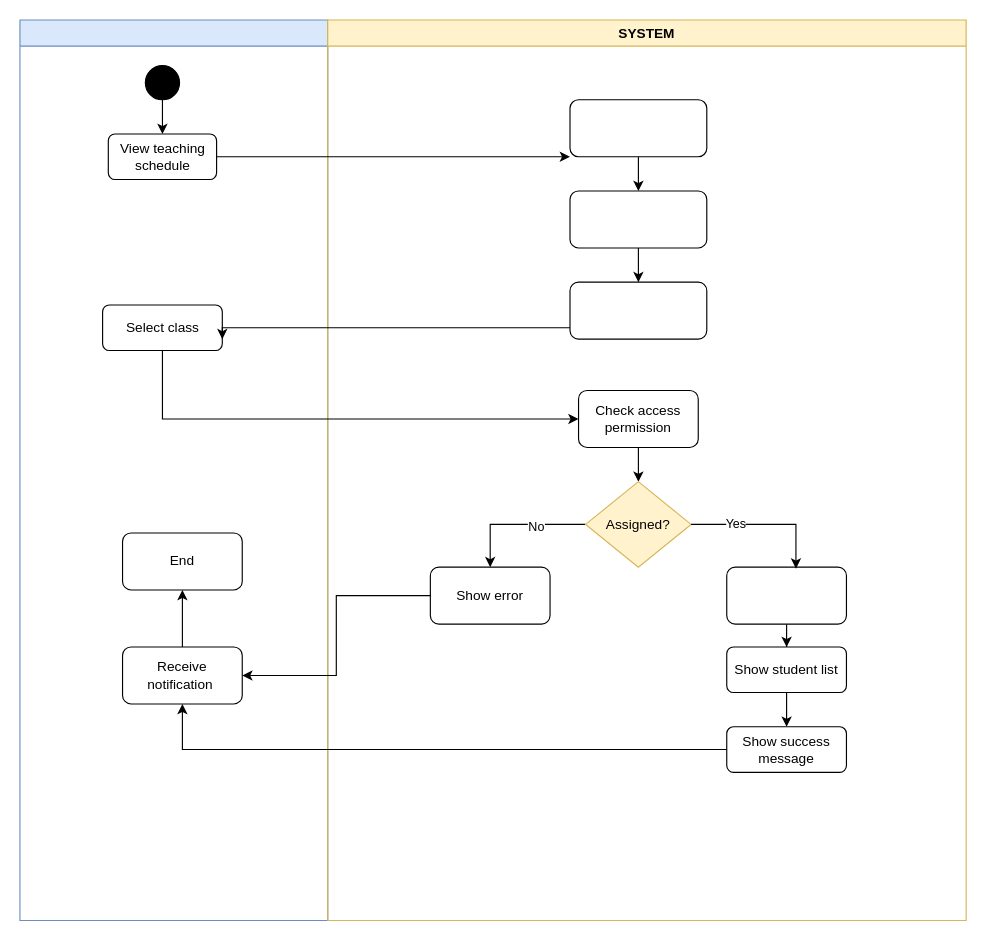
This 986x941 diagram has some shape labels left out. The box of each missing label's shape, as (x1, y1, x2, y2) in pixels:
Check assigned classes: (569, 99, 707, 157)
Coach: (19, 19, 328, 921)
Get classes assigned to Coach: (569, 190, 707, 248)
Show class information: (726, 566, 846, 624)
Show class list: (569, 281, 707, 339)
